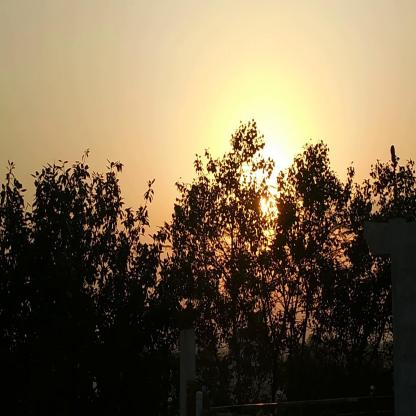other: (214, 79, 319, 252)
